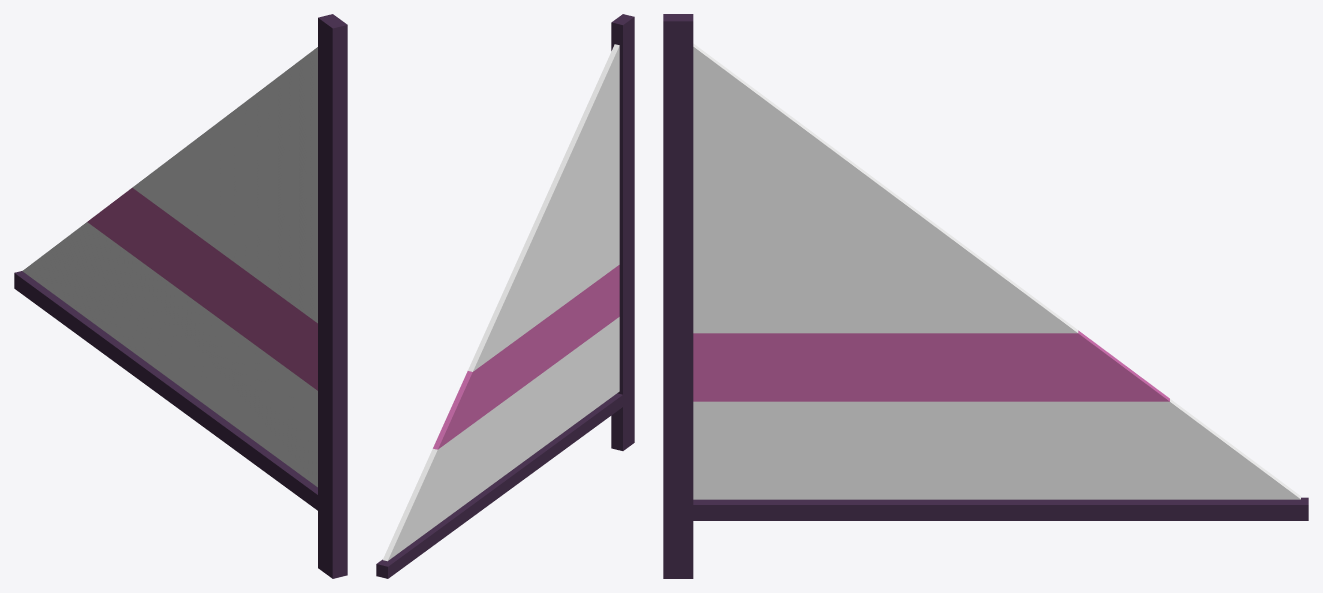
Rendered from rig.glb.
3 renders of one model, left to right at view 1: azimuth 30°, elevation 25°; view 2: azimuth 150°, elevation 25°; view 3: azimuth 270°, elevation 25°, orthographic. The views are drawn at different scales.
Visible parts, largest first — view 1: Rig; view 2: Rig; view 3: Rig.
Part boxes in pixels (box(x1,y1,x2,y2)): Rig: box(14, 14, 347, 578); Rig: box(376, 14, 634, 578); Rig: box(663, 14, 1308, 578).
Size of the model in its own units: 0.07 by 2.45 by 2.57.
